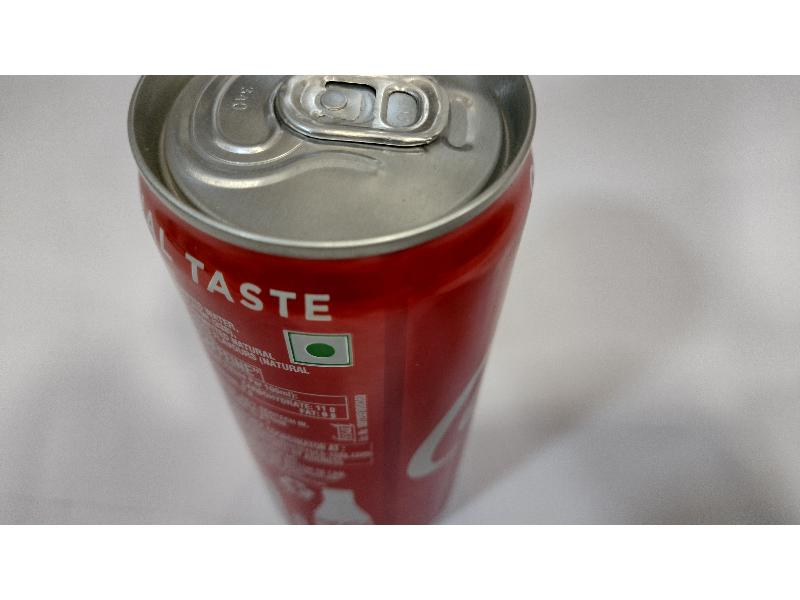can: (132, 77, 542, 523)
